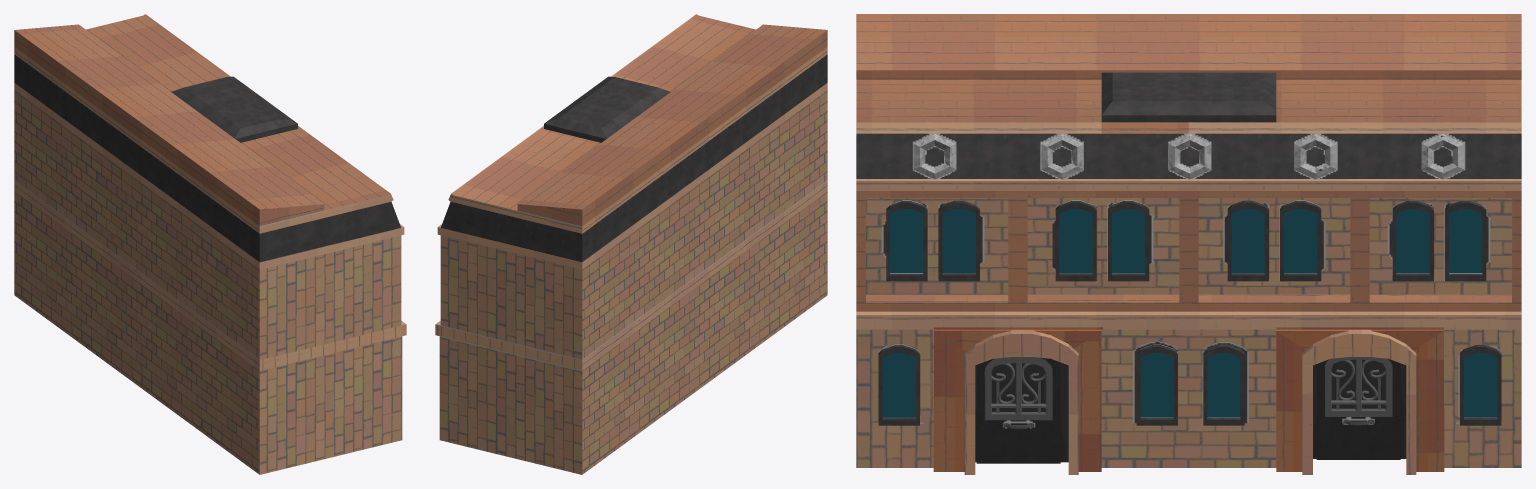
The model's file is Bat_Joliette_2.2.fbx.
3 views of the same model, side by side, from view 1: azimuth 30°, elevation 25°; view 2: azimuth 150°, elevation 25°; view 3: azimuth 270°, elevation 25° (orthographic). The views are drawn at different scales.
Parts seen in each view (by area): view 1: Bat_Joliette_2.2; view 2: Bat_Joliette_2.2; view 3: Bat_Joliette_2.2.
Boxes of the visible parts, bbox=[...] form: Bat_Joliette_2.2: bbox=[14, 14, 406, 474]; Bat_Joliette_2.2: bbox=[435, 14, 827, 474]; Bat_Joliette_2.2: bbox=[856, 14, 1521, 474].
Size of the model in its own units: 748 by 1236 by 2072.
